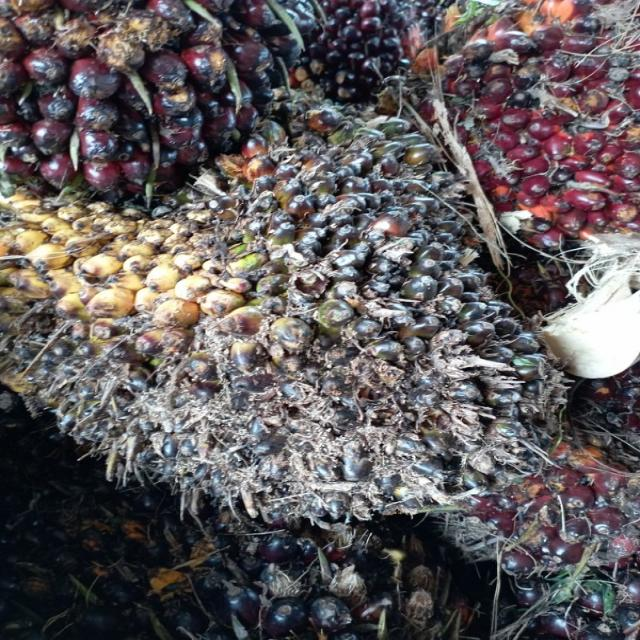fraksi 00: (0, 136, 573, 534)
fraksi 1: (413, 0, 640, 248)
